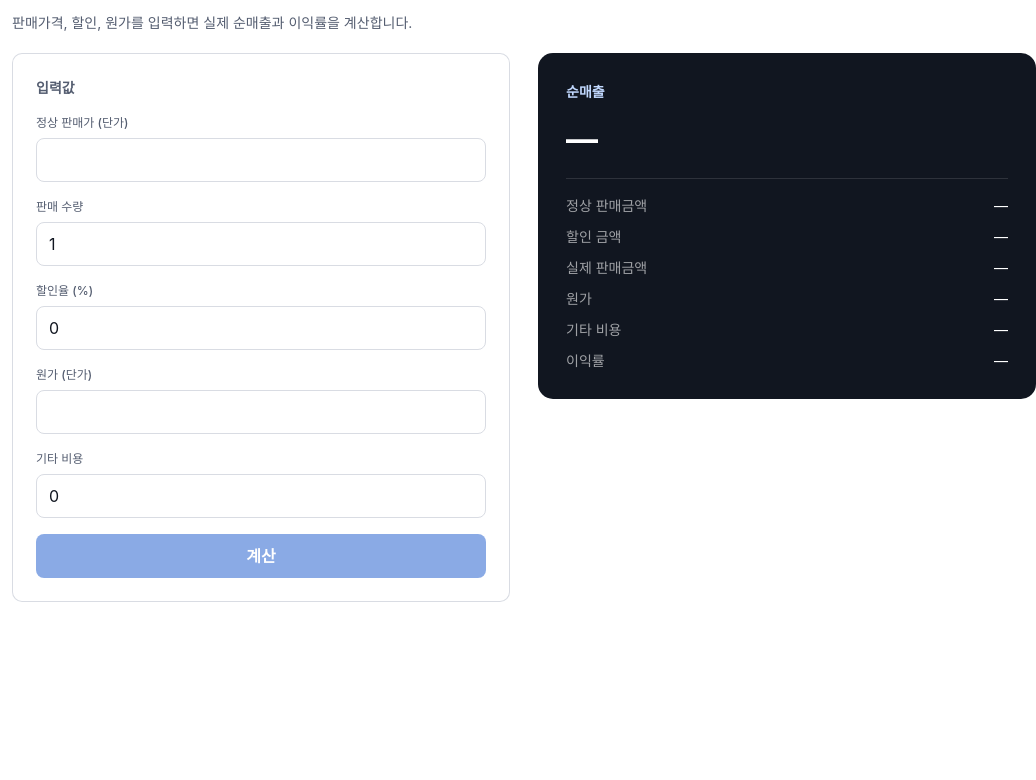
Scenario: MarginCalculator (AC-64) › ADMIN: 원가 입력 → 원가·이익률 표시
Type "1000" into the field labelled "정상 판매가 (단가)" at (261, 160), box [36,138,486,182]
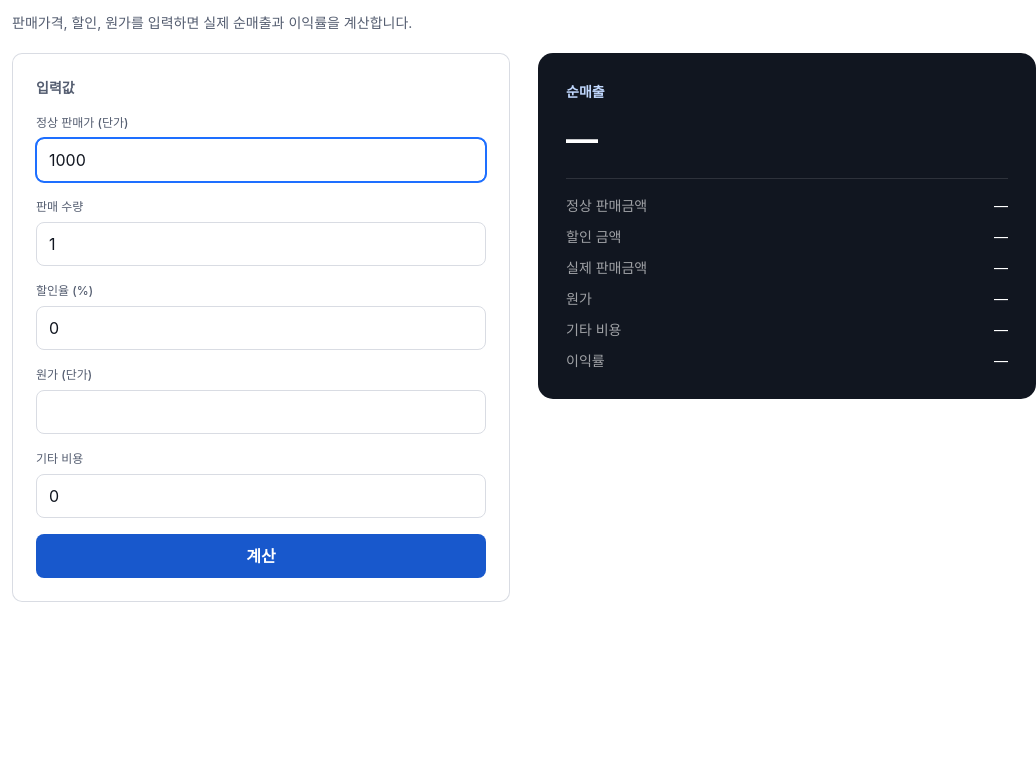
Type "500" into the field labelled "원가 (단가)" at (261, 412), box [36,390,486,434]
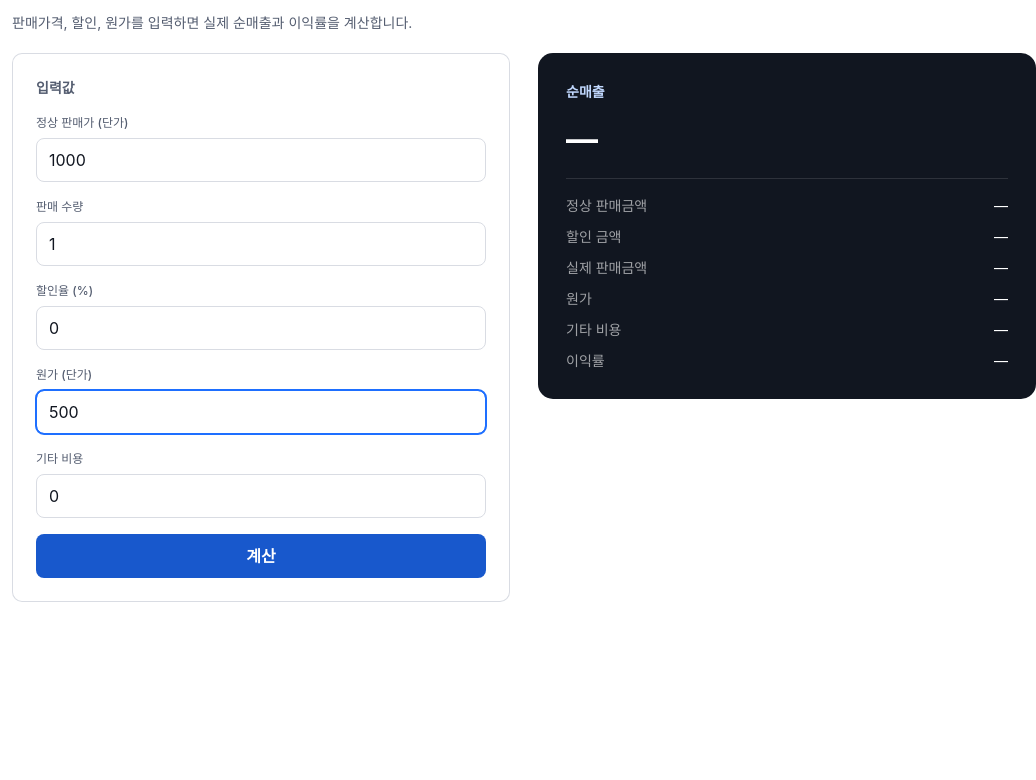
Click the button "계산" at (261, 556), box [36,534,486,578]
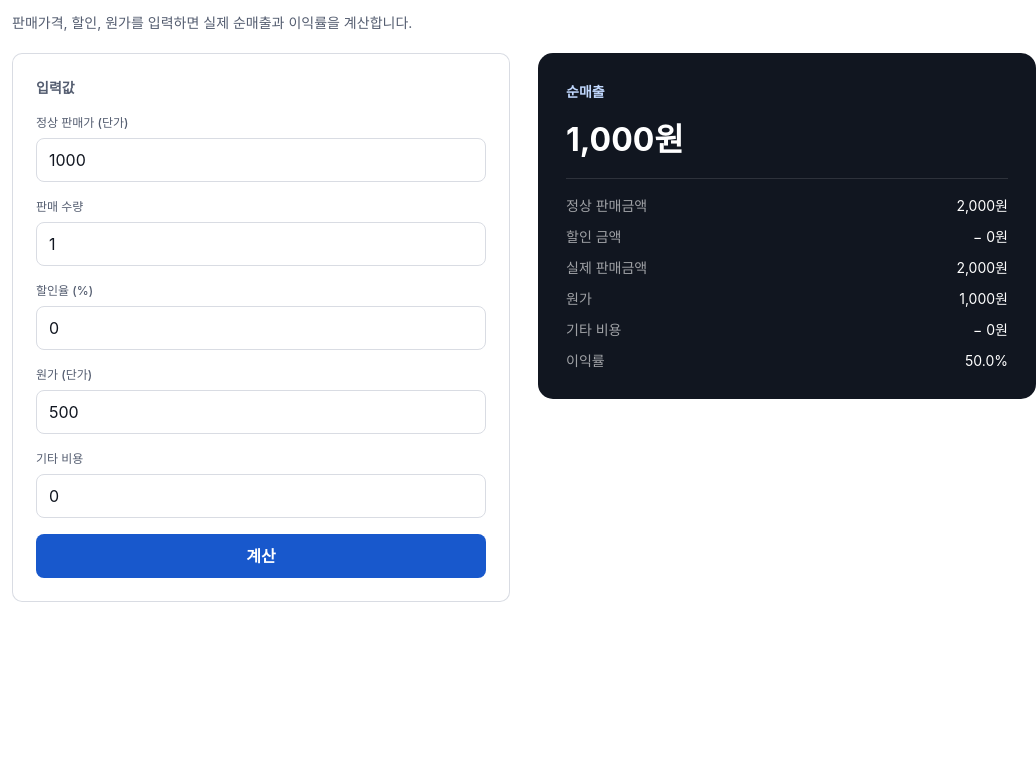
Expected: the text with test id "margin-net" reads "1,000원", [566,120,684,159]
Expected: the element named "순매출 결과" shows "50.0%", [965,352,1008,369]
